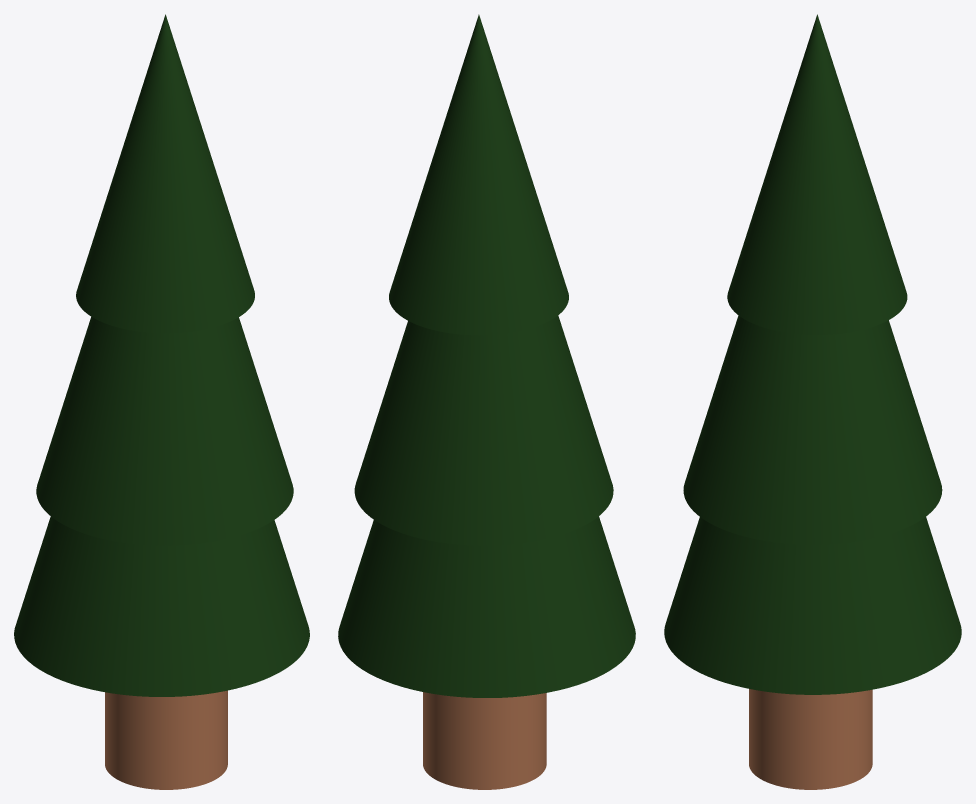
Rendered from HockeyTree.obj.
3 views of the same model, side by side, from view 1: azimuth 30°, elevation 25°; view 2: azimuth 150°, elevation 25°; view 3: azimuth 270°, elevation 25° (orthographic).
Parts seen in each view (by area): view 1: root.003_mesh_id29, root.005_mesh_id41, root.004_mesh_id35, root.002_mesh_id27; view 2: root.003_mesh_id29, root.005_mesh_id41, root.004_mesh_id35, root.002_mesh_id27; view 3: root.003_mesh_id29, root.005_mesh_id41, root.004_mesh_id35, root.002_mesh_id27.
Boxes of the visible parts, x1,y1,x2,y2 form: root.003_mesh_id29: (36,317,293,545); root.005_mesh_id41: (14,516,309,696); root.004_mesh_id35: (76,14,254,333); root.002_mesh_id27: (105,690,227,789); root.003_mesh_id29: (354,315,613,545); root.005_mesh_id41: (338,516,635,697); root.004_mesh_id35: (389,14,568,335); root.002_mesh_id27: (423,692,546,789); root.003_mesh_id29: (683,315,942,544); root.005_mesh_id41: (664,517,961,694); root.004_mesh_id35: (727,14,907,334); root.002_mesh_id27: (749,689,872,789).
Bounding box in the file's own units: 0.2883 × 0.8029 × 0.2883.
